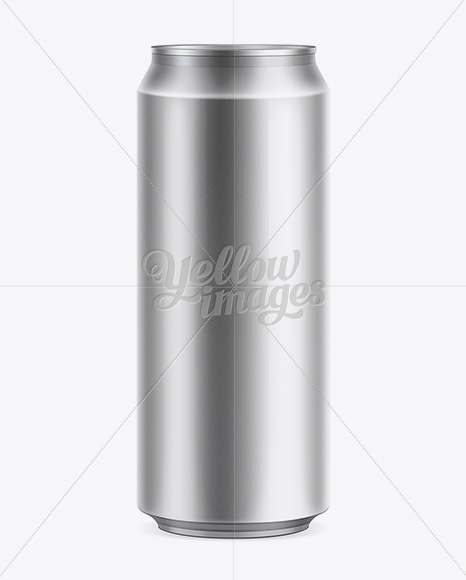beer can: (137, 42, 330, 536)
